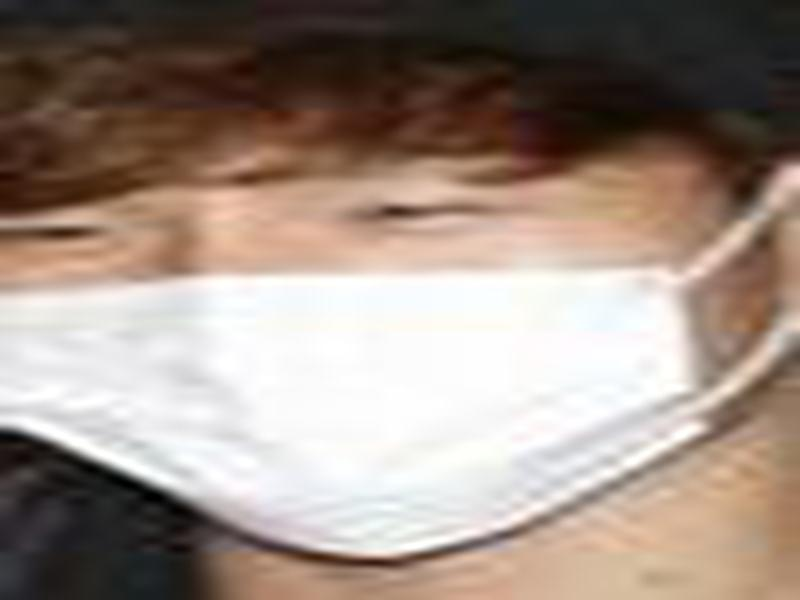with_mask: (1, 4, 796, 577)
